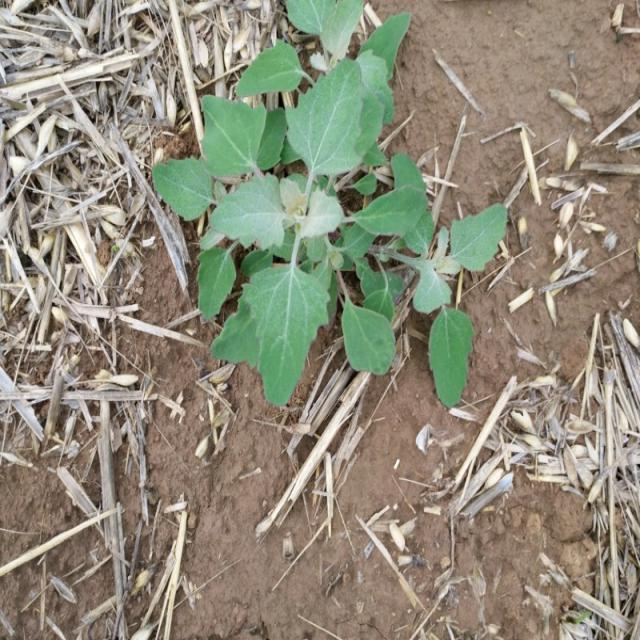goosefoots: (156, 26, 489, 362)
